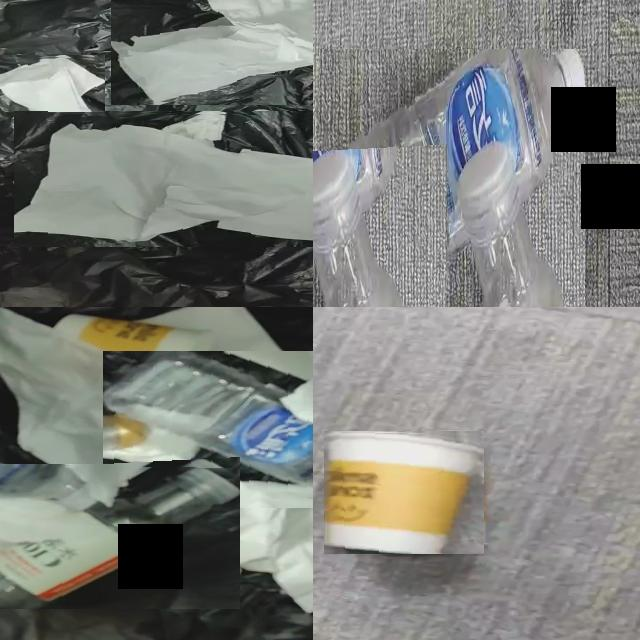bottle: (319, 49, 585, 307), (0, 467, 240, 609), (104, 351, 313, 485), (313, 152, 401, 307)
dixie_cup: (325, 432, 484, 554), (55, 314, 212, 380)
paper: (0, 308, 230, 503), (15, 113, 313, 241), (80, 473, 313, 613), (111, 0, 313, 103), (142, 307, 288, 390), (0, 57, 105, 117)
